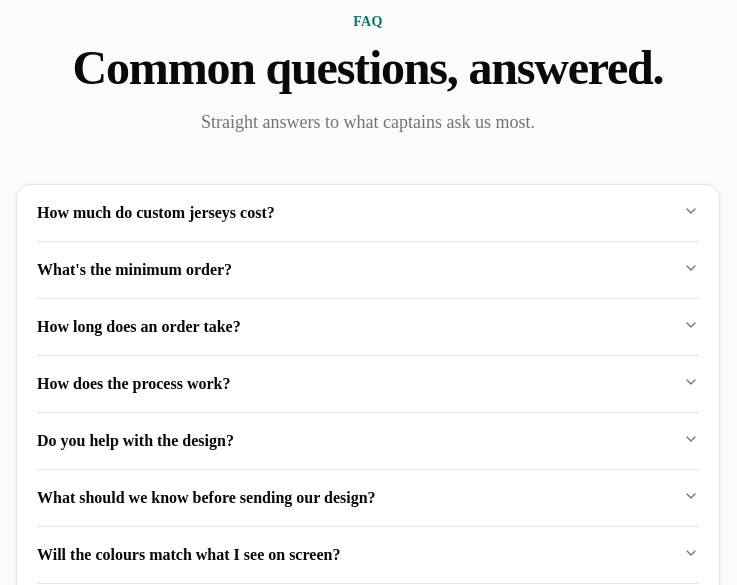
Test: F-03: the rendered FAQ (signed-out visitor) › design-tips: the open panel reads exactly as the approved text (each heading, paragraph, list item and fine print)
What coordinates should you click on to do the following:
click the button "What should we know before sending our design?"
I would click on:
 (368, 498)
Its box is [37,470,699,526].
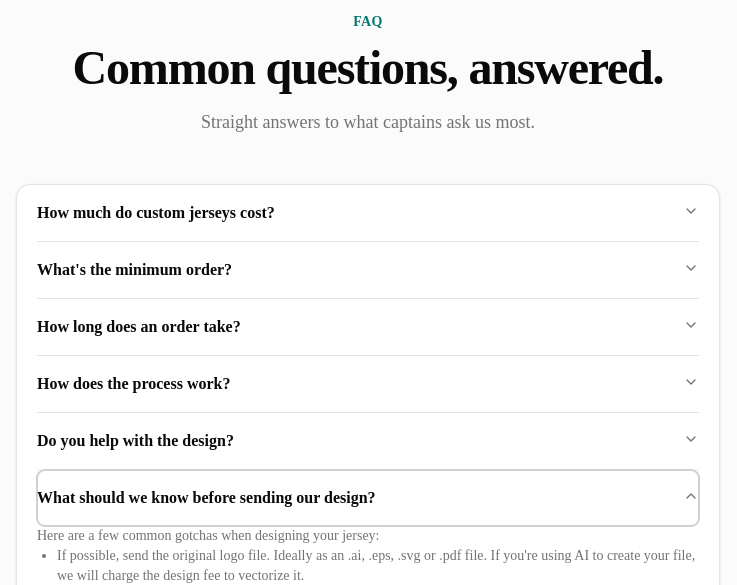
Expected: the button "What should we know before sending our design?" is expanded, [37,470,699,526]
